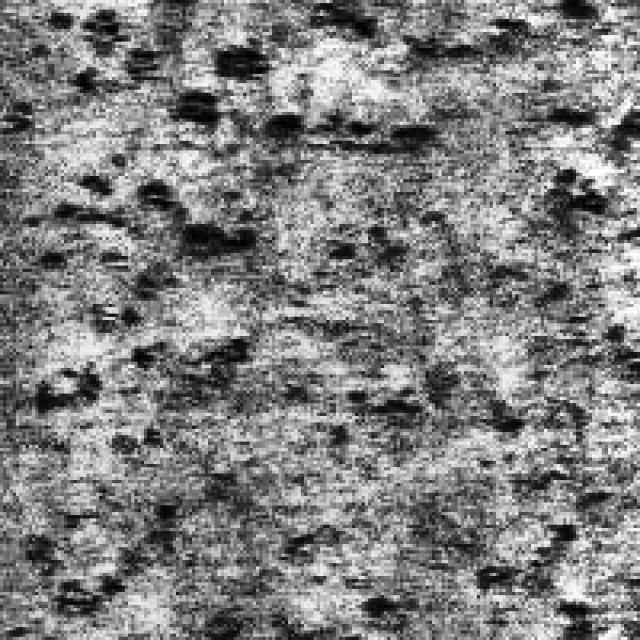Crazing: (16, 19, 339, 416)
